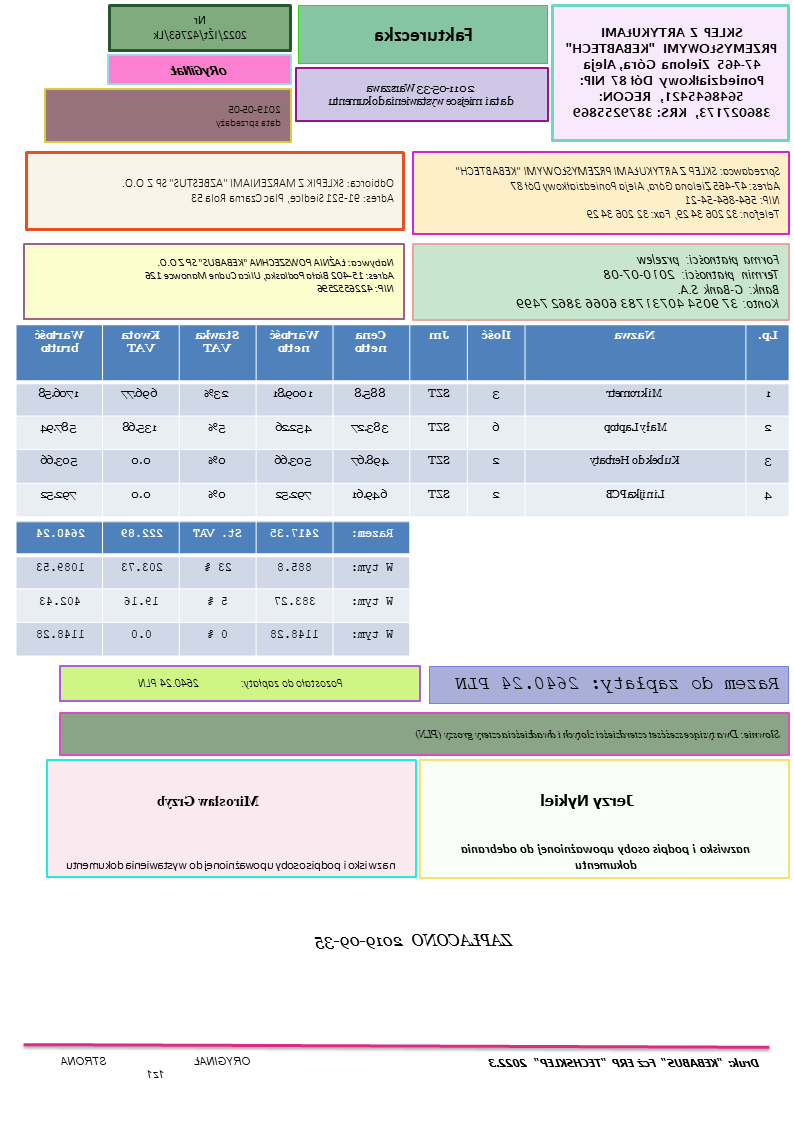Table: (14, 323, 792, 516), (15, 520, 411, 656)
TextBox: (563, 23, 781, 120), (455, 163, 784, 223), (515, 252, 784, 312), (144, 254, 398, 295), (121, 174, 397, 205), (454, 673, 782, 693), (413, 727, 783, 744), (325, 79, 517, 109), (58, 1054, 254, 1080), (313, 930, 517, 952), (487, 1054, 761, 1070), (137, 675, 346, 691), (150, 11, 249, 43), (373, 24, 477, 45), (212, 102, 284, 131), (538, 791, 638, 811), (156, 793, 261, 810), (166, 61, 231, 78)
